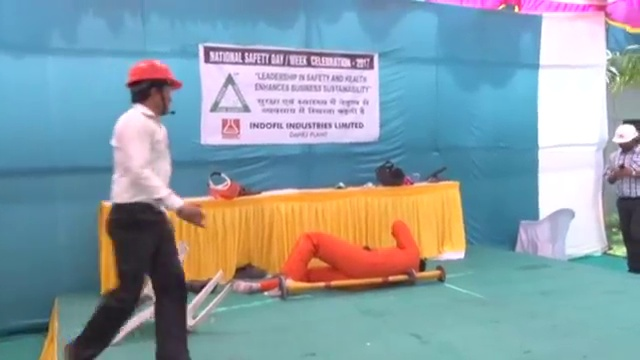helmet: (125, 58, 184, 91), (610, 121, 638, 145)
helmet_on: (124, 58, 184, 117), (609, 120, 640, 156)
person: (64, 56, 204, 360), (232, 221, 429, 294), (602, 119, 640, 278)
